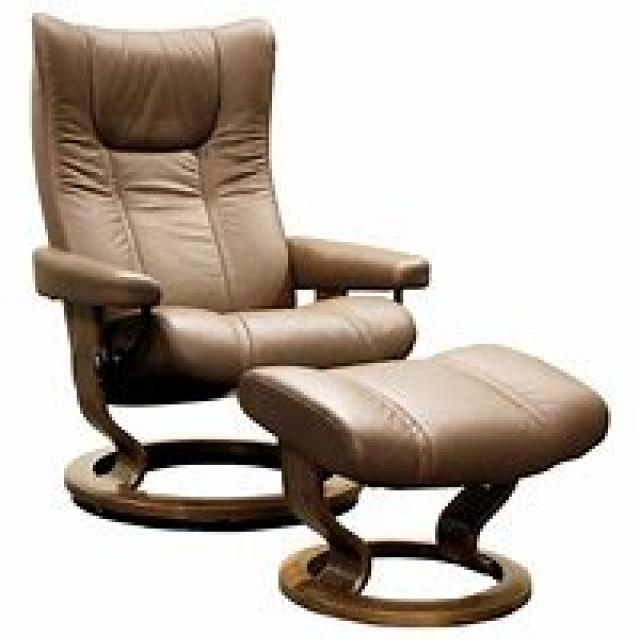chair: (26, 9, 428, 528)
